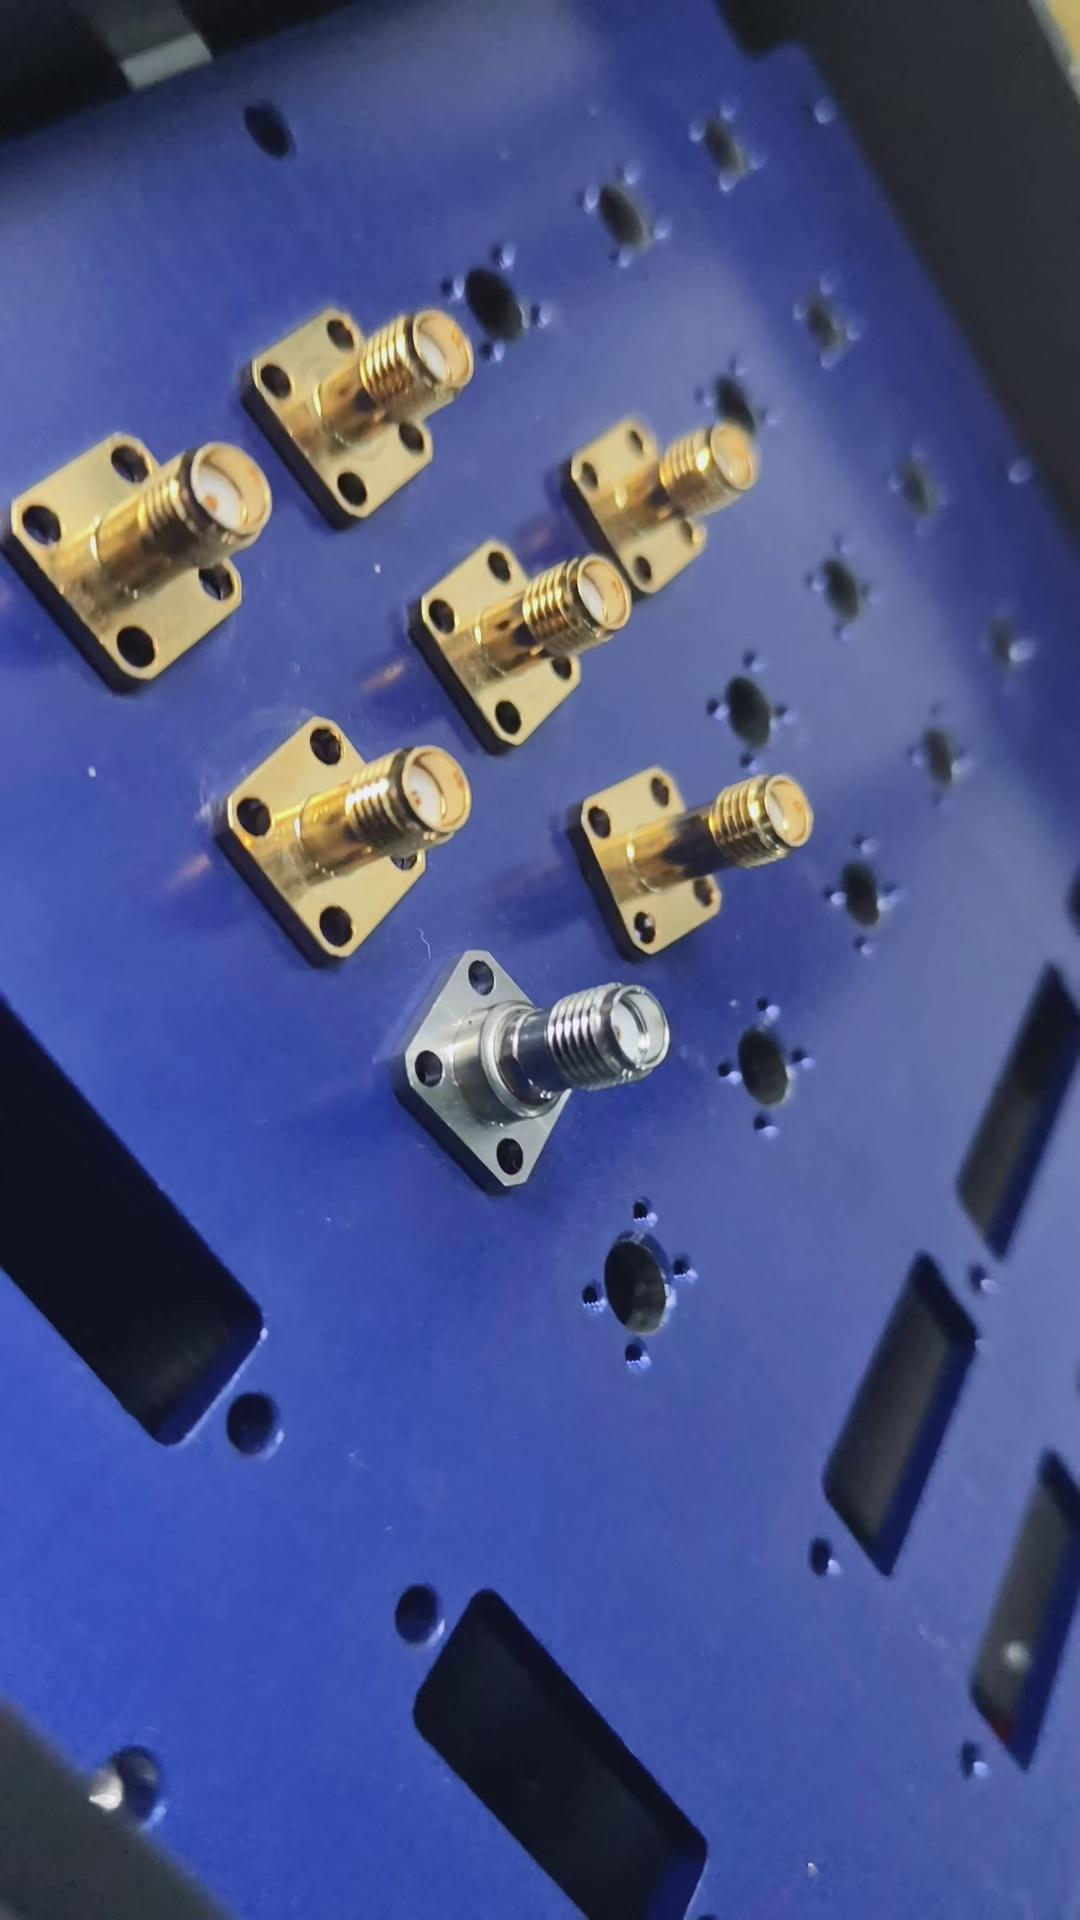SMA: (7, 425, 289, 688), (396, 930, 675, 1185), (214, 702, 469, 960), (245, 284, 471, 527), (582, 748, 822, 957), (415, 514, 611, 748), (567, 406, 767, 607)
